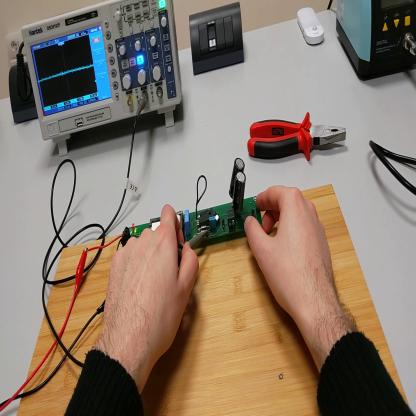hand: (104, 204, 198, 366), (245, 184, 339, 327)
high voltage board: (87, 158, 262, 251)
oscilloscope: (24, 3, 186, 163)
oscilloscope probe tip: (178, 230, 207, 268)
pliers: (246, 111, 349, 165)
socket: (9, 62, 38, 126)
welder station: (336, 2, 415, 85)
working area: (18, 183, 410, 415)
